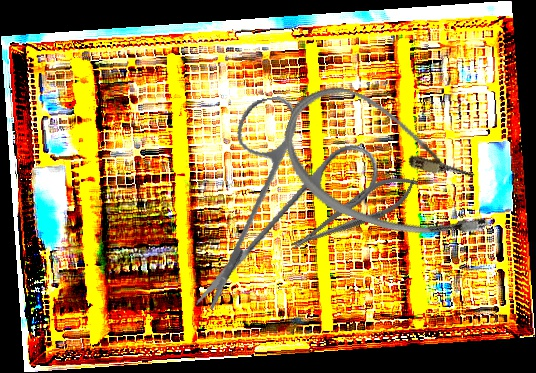Cannula: (266, 74, 513, 260)
Iris Scissors: (160, 80, 398, 312)
Needle Holder: (284, 165, 424, 261)
